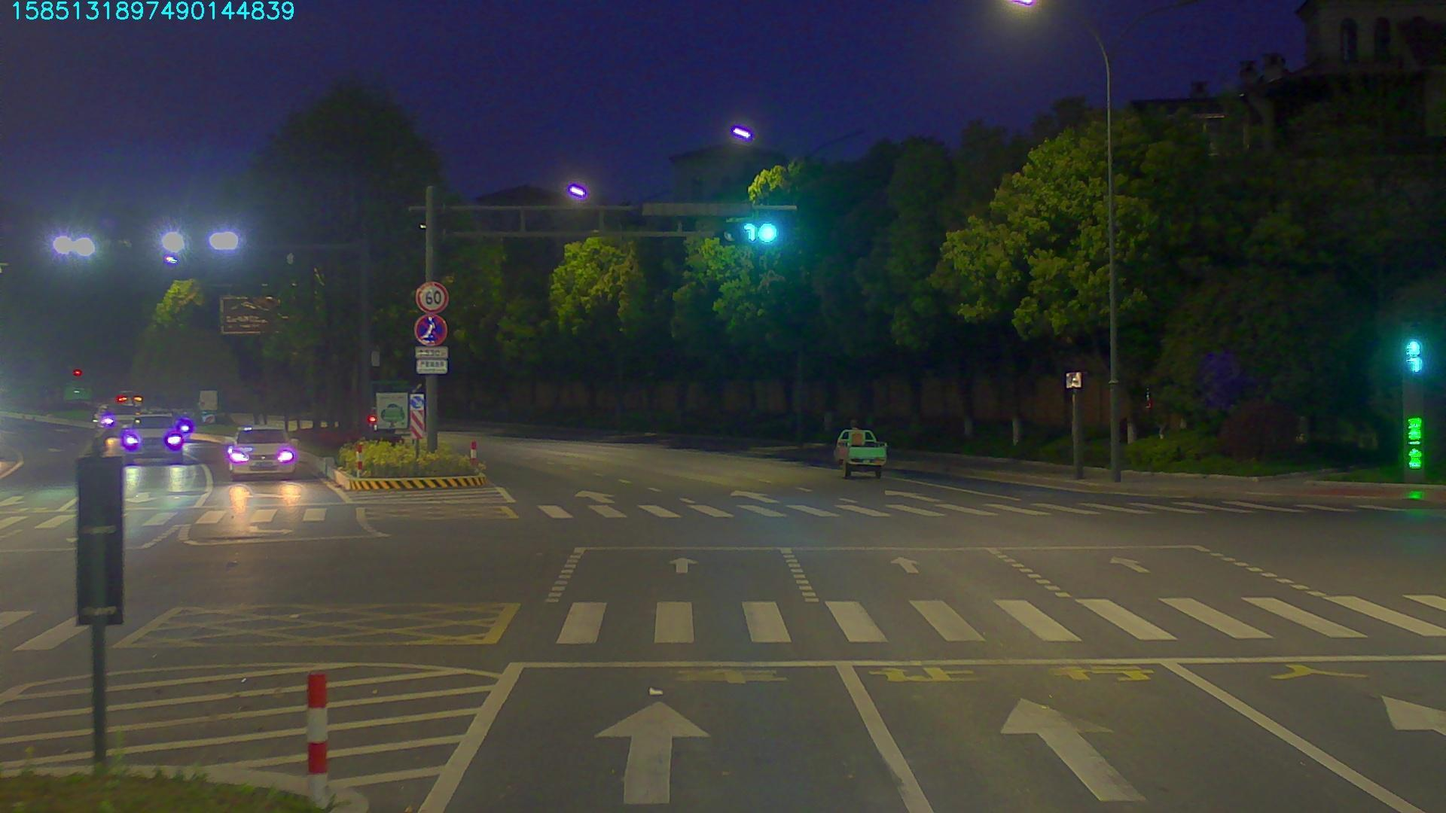green: (737, 221, 779, 246)
